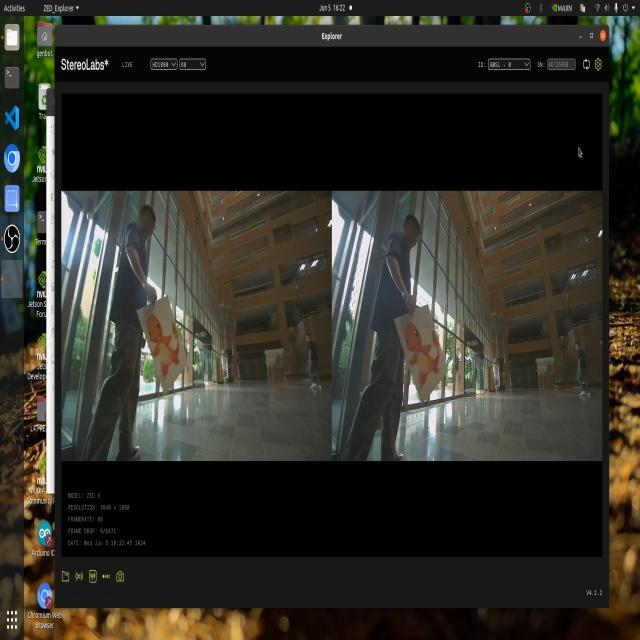red: (140, 298, 181, 380), (389, 312, 433, 366)
